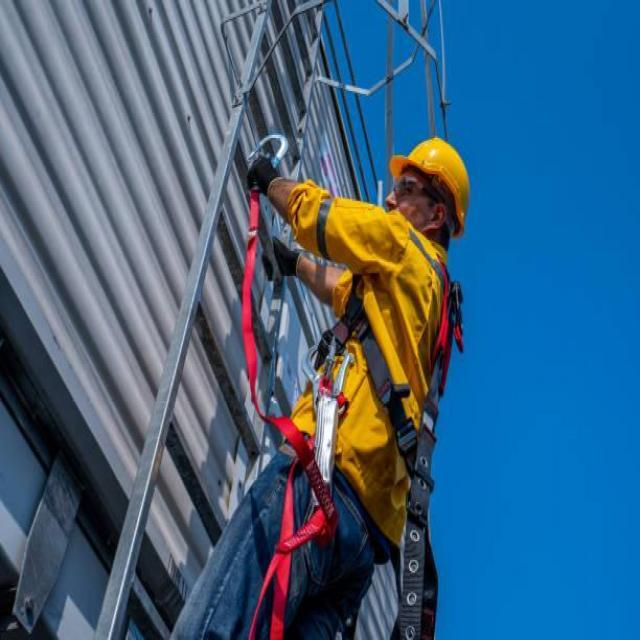belt: (301, 228, 465, 608)
